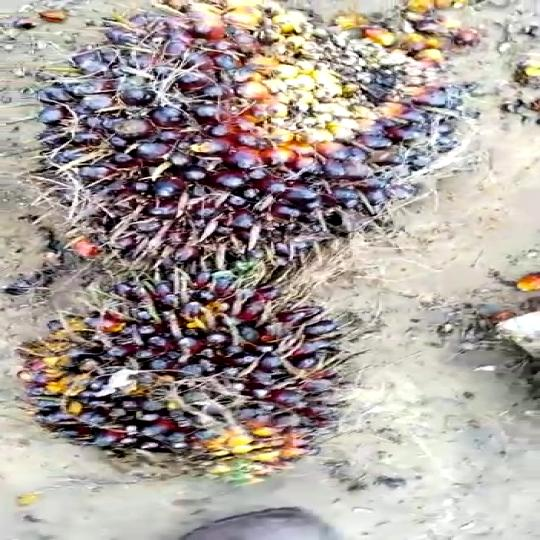kurang masak: (32, 0, 471, 280), (35, 276, 373, 488)
